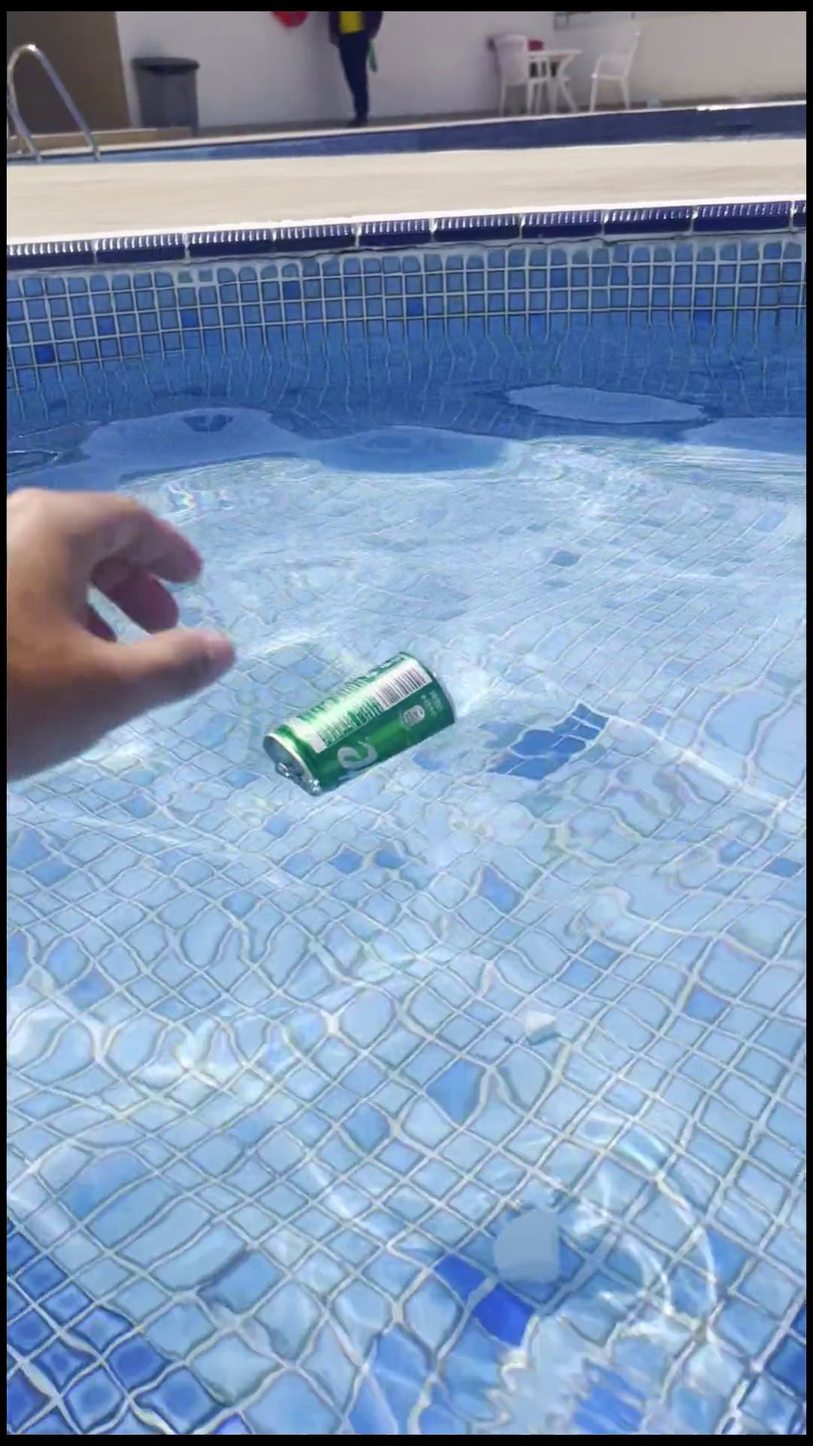debris: (259, 632, 460, 825)
